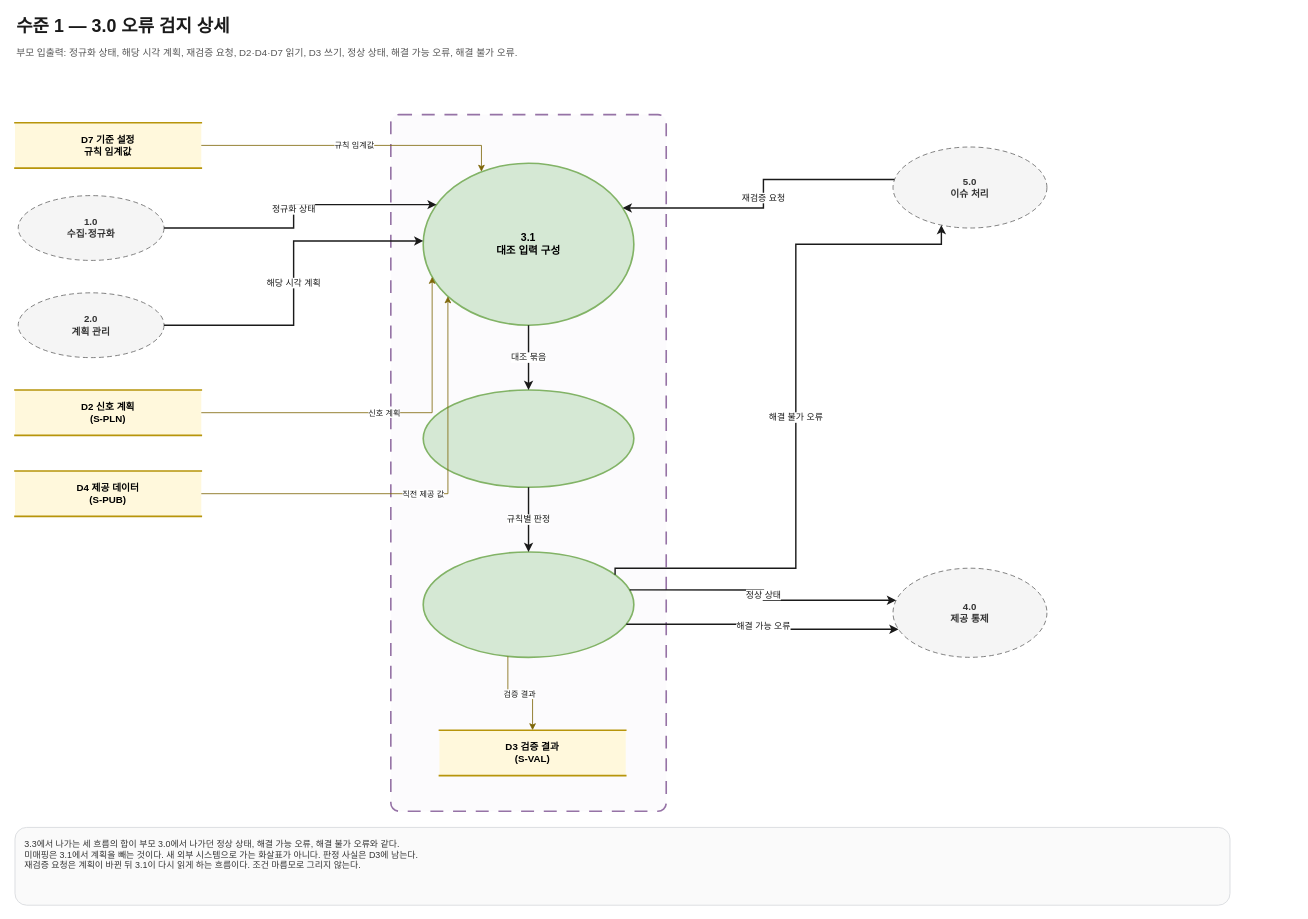
The diagram is 1308 pixels wide and 919 high, and some of its shapes have lost their labels. The box of each missing label's shape, as (x1, y1, x2, y2) in pixels:
3.0 오류 검지: (390, 113, 667, 812)
3.2 규칙 판정: (422, 389, 634, 488)
3.3 등급 분류: (422, 551, 634, 658)
